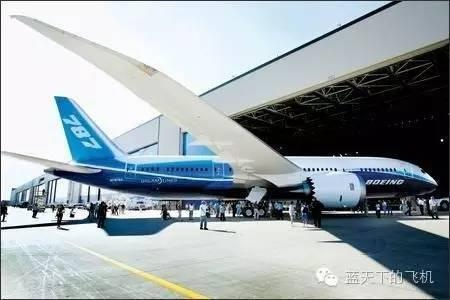airplane: (1, 13, 440, 215)
